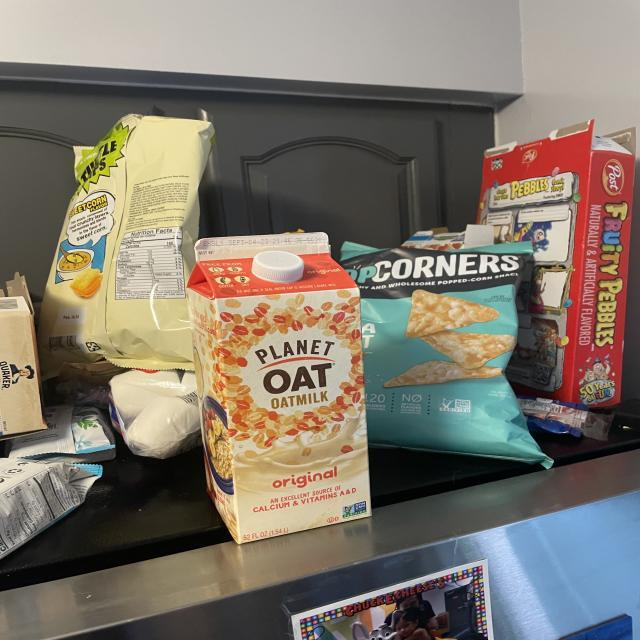Planet Oat Original: (181, 227, 377, 545)
